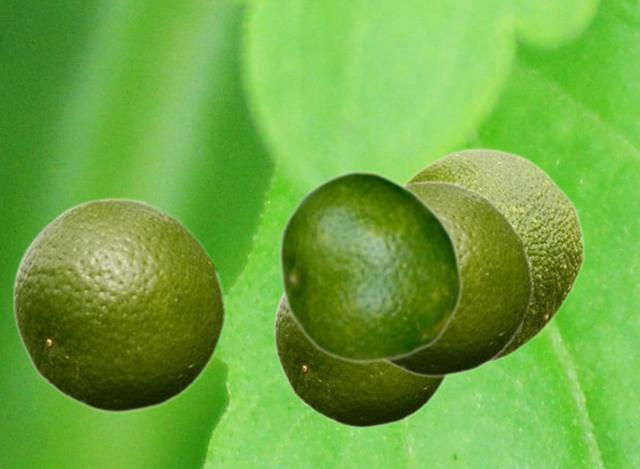calamansi: (12, 195, 226, 413), (404, 147, 584, 364), (277, 169, 463, 363), (386, 178, 533, 377), (273, 294, 447, 428)
